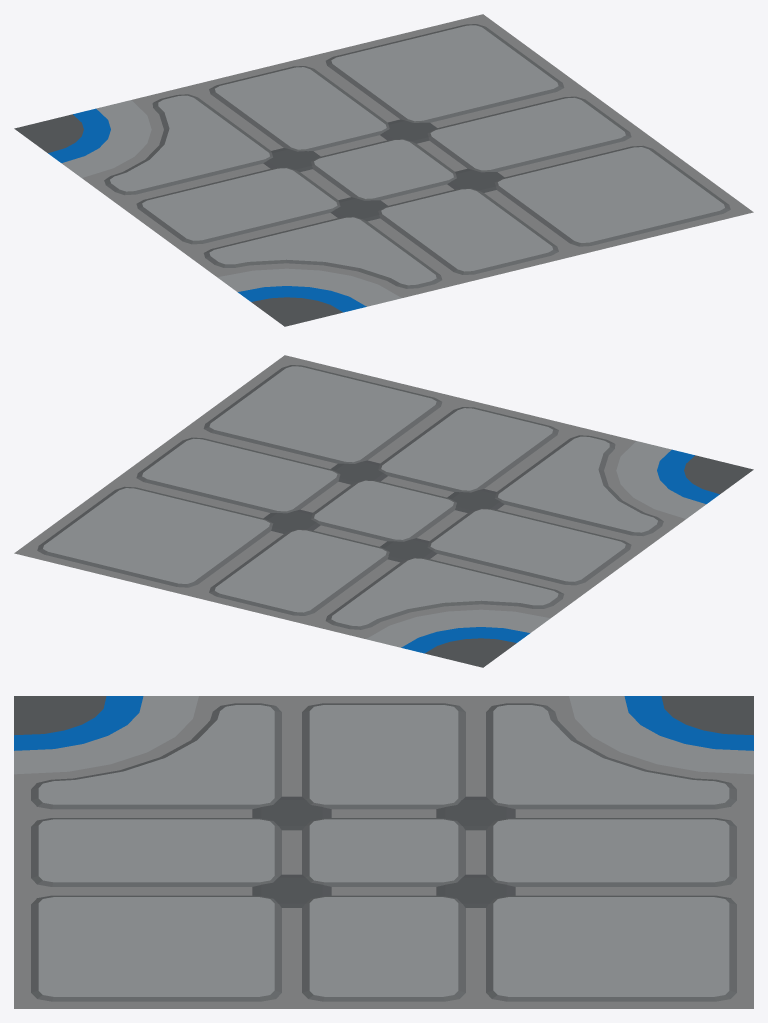
The model's file is Floor_type_B_021.fbx.
3 renders of one model, top to bottom at view 1: azimuth 30°, elevation 25°; view 2: azimuth 150°, elevation 25°; view 3: azimuth 270°, elevation 25°, orthographic. The views are drawn at different scales.
Visible parts, largest first — view 1: Floor_type_B_021; view 2: Floor_type_B_021; view 3: Floor_type_B_021.
Boxes of the visible parts, x1,y1,x2,y2 form: Floor_type_B_021: (14, 14, 753, 326); Floor_type_B_021: (14, 355, 753, 667); Floor_type_B_021: (14, 696, 753, 1008).
Size of the model in its own units: 400 by 400 by 1.34.
